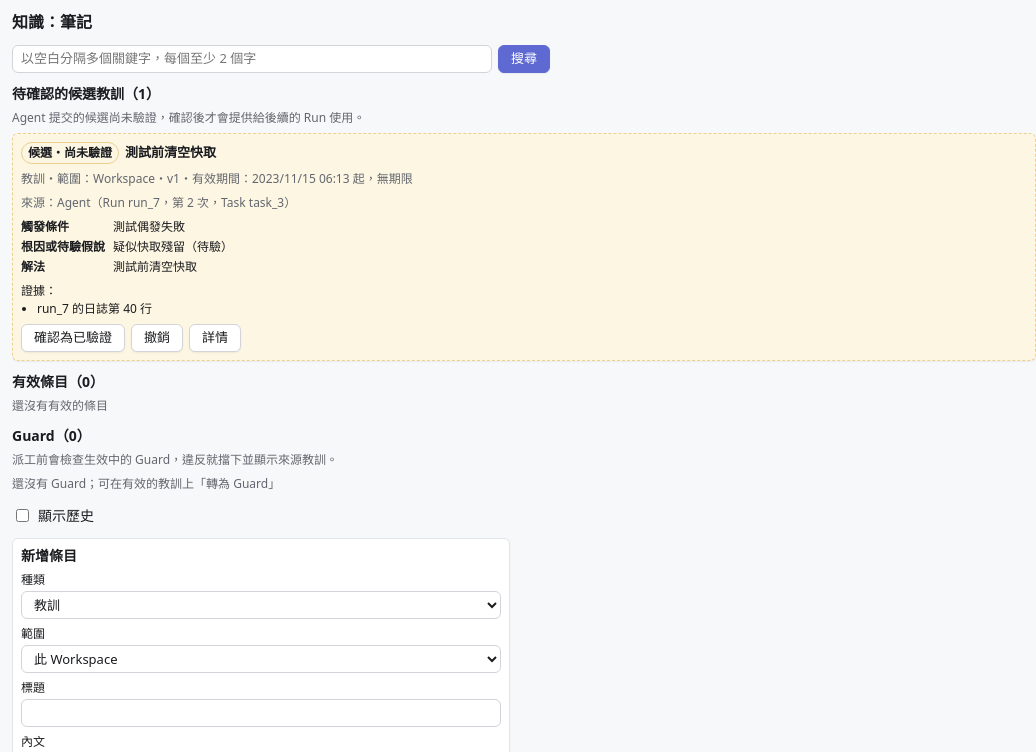
知識 › 待確認的候選教訓 › 確認為已驗證：帶 revision 送出，重新讀取後移到有效條目
Click the button "確認為已驗證".
click(73, 338)  # box [21, 324, 125, 352]
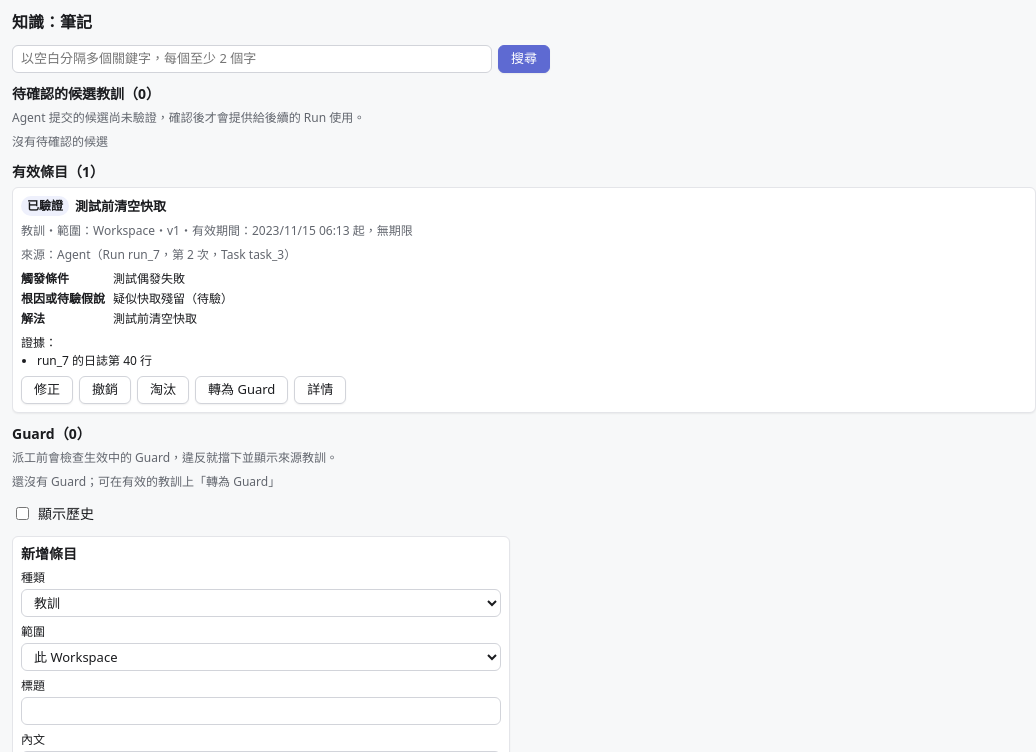
Expected: the element "測試前清空快取" shows "已驗證", [27, 197, 63, 214]
Expected: the text "沒有待確認的候選" is shown, [12, 133, 108, 150]
